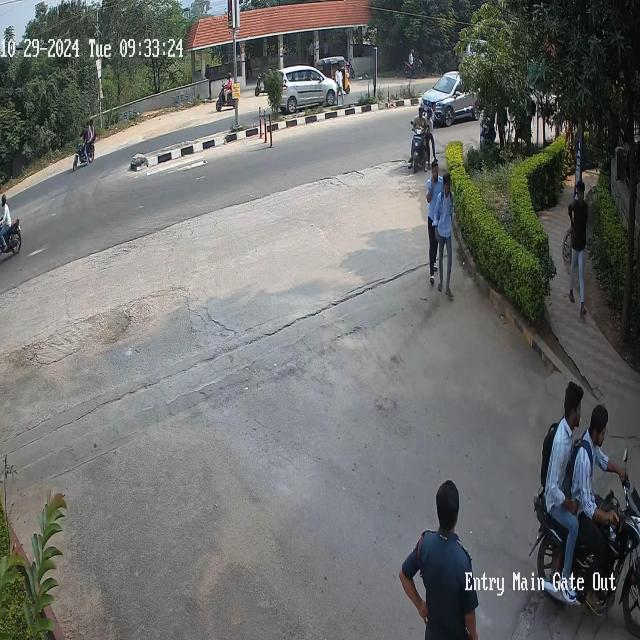double_rider: (534, 383, 640, 640)
